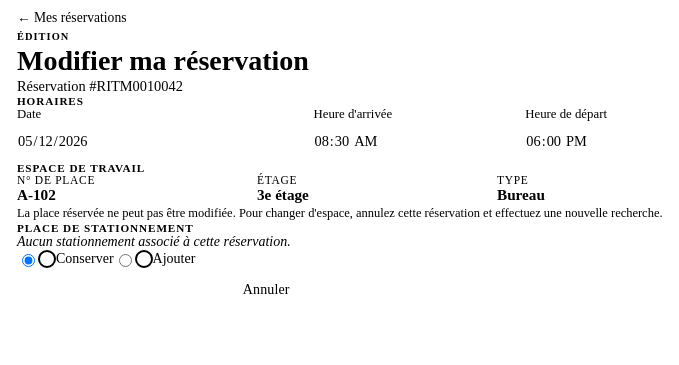
Test: WsbEditPage — US-5.02 date & time validation › shows error when date is a weekend (Saturday)
Type "2026-05-16" into the date field labelled "Date" at (165, 142), box [17,122,314,162]
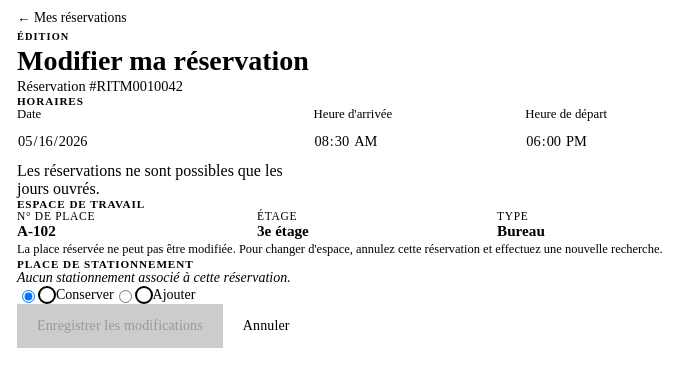
expect the text "Les réservations ne sont possibles que les jours ouvrés." is shown: met, box [17,162,314,198]
